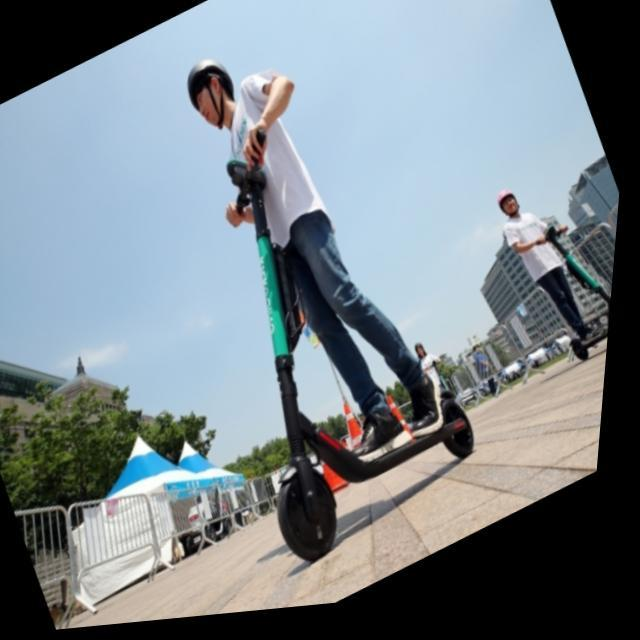Helmet: (175, 47, 243, 142)
